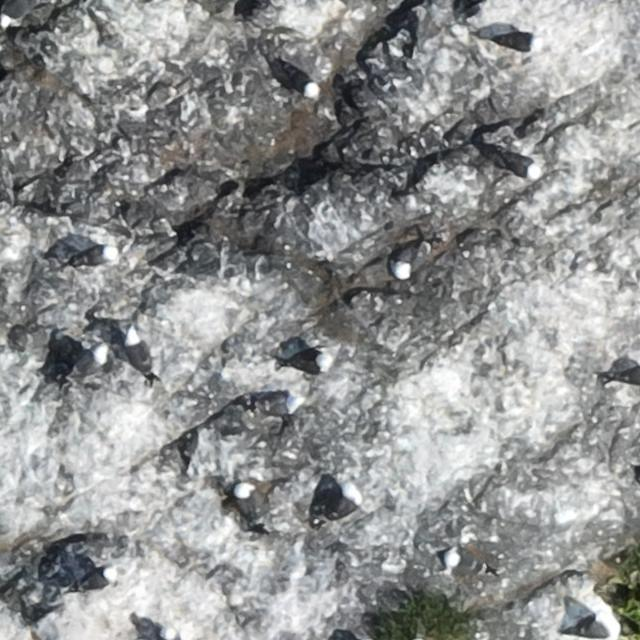umineko: (318, 482, 364, 526), (70, 346, 108, 380), (234, 483, 262, 528), (572, 612, 621, 637), (394, 244, 424, 278), (498, 154, 540, 177), (281, 69, 318, 95), (290, 352, 338, 372), (76, 567, 118, 588), (446, 552, 485, 573), (76, 244, 118, 263), (126, 333, 147, 371), (494, 32, 537, 50), (257, 396, 295, 414), (617, 368, 640, 384)
